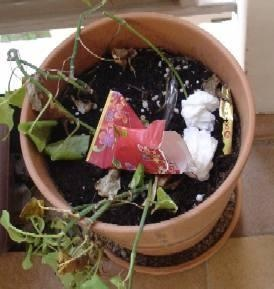pottedplant: (6, 10, 258, 278)
